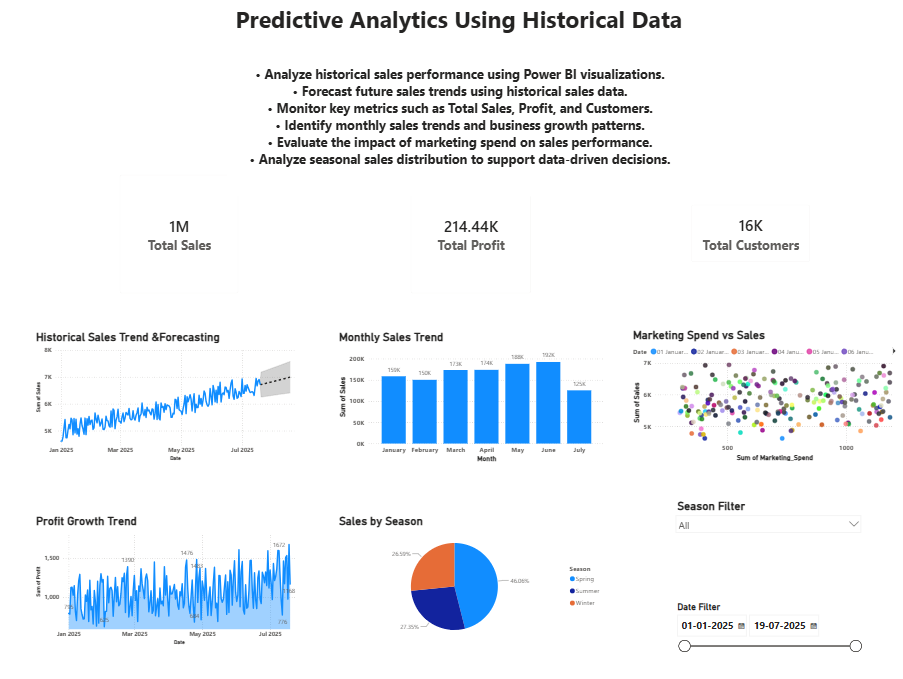

Layout of this report page (visuals, bound fields, positions):
{"tool":"powerbi","page":{"name":"Page 1","canvas":[1920,1500],"ordinal":0},"visuals":[{"type":"cardVisual","fields":{"Data":["Predictive_Analytics_Data.Total Sales"]},"box":[246.9,409.4,281.2,281.2],"z":0},{"type":"cardVisual","fields":{"Data":["Predictive_Analytics_Data.Total Profit"]},"box":[853.1,409.4,284.4,281.2],"z":1000},{"type":"cardVisual","fields":{"Data":["Predictive_Analytics_Data.Total Customers"]},"box":[1437.5,471.9,281.2,153.1],"z":2000},{"type":"lineChart","title":" Historical Sales Trend &Forecasting","fields":{"Y":["Sum(Predictive_Analytics_Data.Sales)"],"Category":["Predictive_Analytics_Data.Date"]},"box":[83.3,750,563.3,276.7],"z":4000},{"type":"clusteredColumnChart","title":"Monthly Sales Trend","fields":{"Category":["Predictive_Analytics_Data.Date.Variation.Date Hierarchy.Month"],"Y":["Sum(Predictive_Analytics_Data.Sales)"]},"box":[715.6,750,562.5,281.2],"z":5000},{"type":"scatterChart","title":"Marketing Spend vs Sales","fields":{"X":["Sum(Predictive_Analytics_Data.Marketing_Spend)"],"Y":["Sum(Predictive_Analytics_Data.Sales)"],"Series":["Predictive_Analytics_Data.Date"]},"box":[1328.1,746.9,568.8,281.2],"z":6000},{"type":"areaChart","title":"Profit Growth Trend","fields":{"Y":["Sum(Predictive_Analytics_Data.Profit)"],"Category":["Predictive_Analytics_Data.Date"]},"box":[83.3,1133.3,563.3,276.7],"z":6001},{"type":"pieChart","title":"Sales by Season","fields":{"Category":["Predictive_Analytics_Data.Season"],"Y":["Sum(Predictive_Analytics_Data.Sales)"]},"box":[715.6,1134.4,562.5,271.9],"z":6002},{"type":"actionButton","box":[0,0,100,40],"z":6004},{"type":"slicer","fields":{"Values":["Predictive_Analytics_Data.Season"]},"box":[1412.5,1096.9,406.2,175],"z":6006},{"type":"slicer","fields":{"Values":["Predictive_Analytics_Data.Date"]},"box":[1412.5,1309.4,406.2,190.6],"z":6007},{"type":"textbox","box":[487.5,193.8,950,278.1],"z":6008},{"type":"textbox","box":[500,62.5,990.6,106.2],"z":6009}]}

Visuals, with their boxes on the page's 1920x1500 design canvas (x1, y1, x2, y2). These are canvas units, not pixel positions in the 903x679 screenshot, which may show the page scaled, cropped or inside an application window:
cardVisual - Predictive_Analytics_Data.Total Sales: [left=247, top=409, right=528, bottom=691]
cardVisual - Predictive_Analytics_Data.Total Profit: [left=853, top=409, right=1138, bottom=691]
cardVisual - Predictive_Analytics_Data.Total Customers: [left=1438, top=472, right=1719, bottom=625]
" Historical Sales Trend &Forecasting" lineChart: [left=83, top=750, right=647, bottom=1027]
"Monthly Sales Trend" clusteredColumnChart: [left=716, top=750, right=1278, bottom=1031]
"Marketing Spend vs Sales" scatterChart: [left=1328, top=747, right=1897, bottom=1028]
"Profit Growth Trend" areaChart: [left=83, top=1133, right=647, bottom=1410]
"Sales by Season" pieChart: [left=716, top=1134, right=1278, bottom=1406]
actionButton: [left=0, top=0, right=100, bottom=40]
slicer - Predictive_Analytics_Data.Season: [left=1412, top=1097, right=1819, bottom=1272]
slicer - Predictive_Analytics_Data.Date: [left=1412, top=1309, right=1819, bottom=1500]
textbox: [left=488, top=194, right=1438, bottom=472]
textbox: [left=500, top=62, right=1491, bottom=169]
